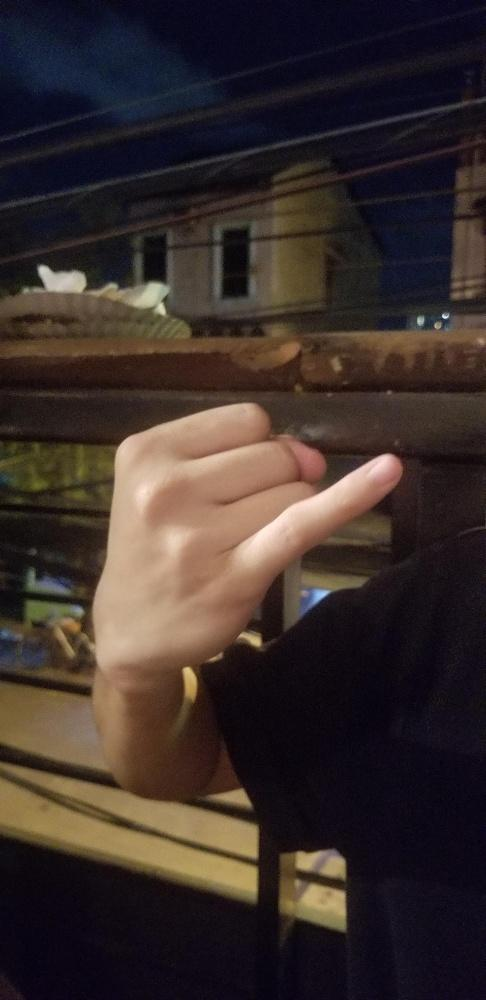j: (88, 397, 408, 677)
